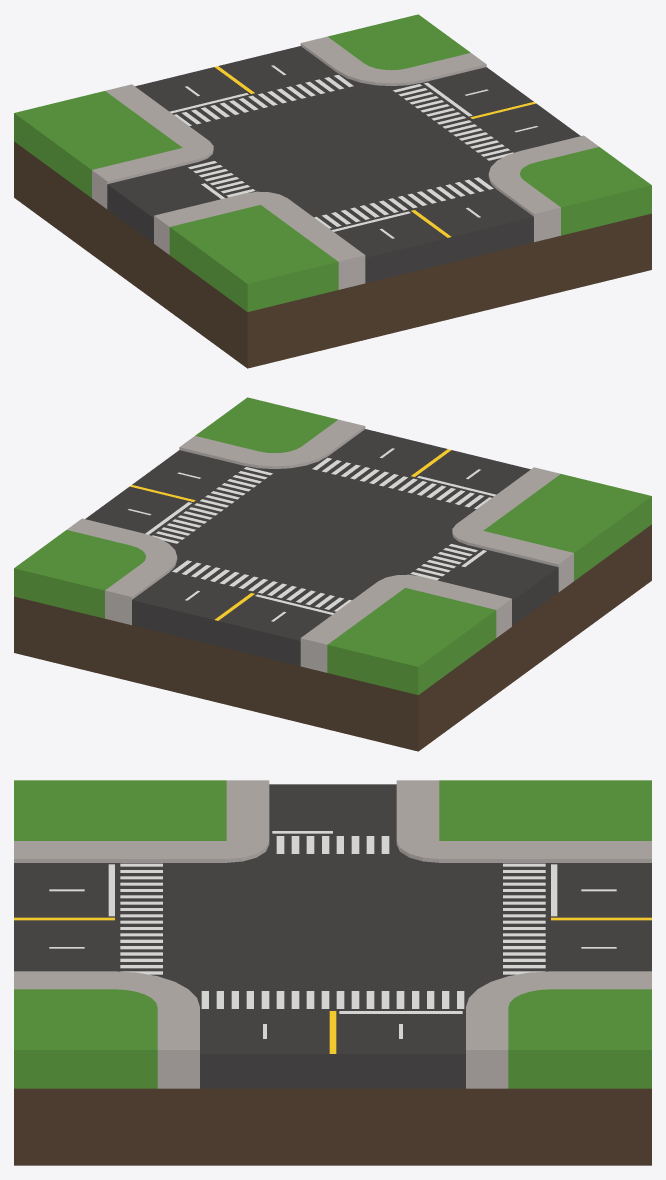
File: tile-mainroad-road-intersection.glb
The picture shows the model from 3 angles, top to bottom: view 1: azimuth 30°, elevation 25°; view 2: azimuth 150°, elevation 25°; view 3: azimuth 270°, elevation 25°; orthographic projection. The views are drawn at different scales.
Parts seen in each view (by area): view 1: tile-mainroad-road-intersection; view 2: tile-mainroad-road-intersection; view 3: tile-mainroad-road-intersection.
Boxes of the visible parts, bbox=[...] form: tile-mainroad-road-intersection: bbox=[14, 14, 651, 368]; tile-mainroad-road-intersection: bbox=[14, 397, 651, 751]; tile-mainroad-road-intersection: bbox=[14, 780, 651, 1165].
Bounding box in the file's own units: 30 × 6 × 30.
Materials: 1 (1 with a texture image).
